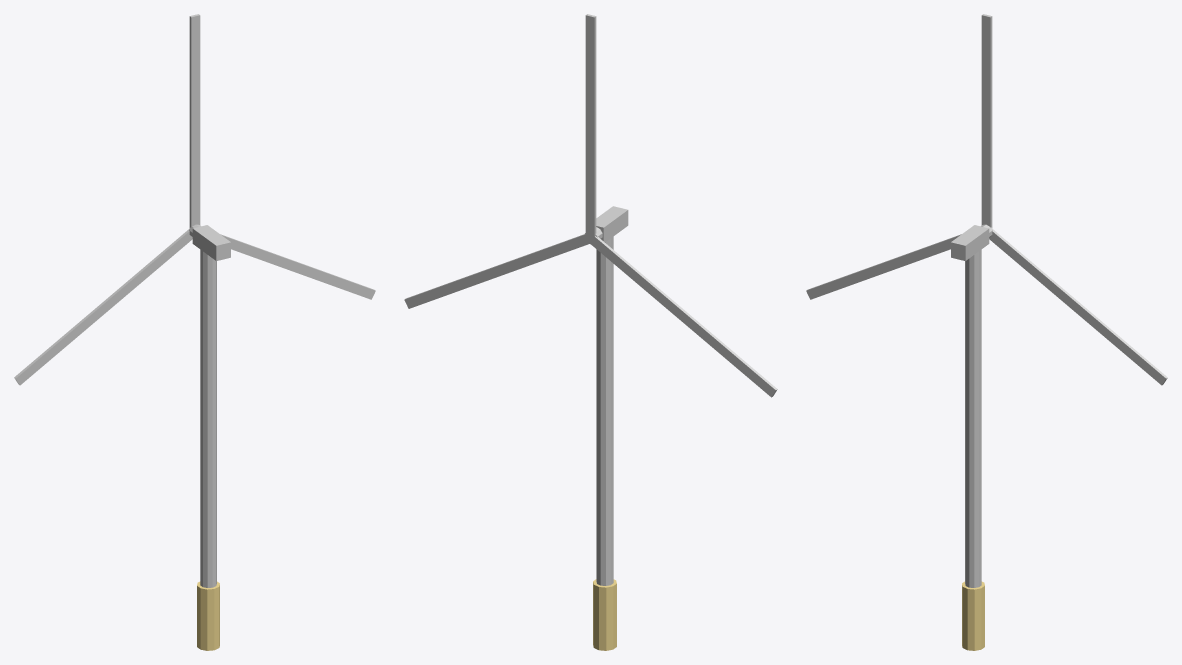
The model's file is wind_turbine.glb.
3 renders of one model, left to right at view 1: azimuth 30°, elevation 25°; view 2: azimuth 150°, elevation 25°; view 3: azimuth 330°, elevation 25°, orthographic. The views are drawn at different scales.
Visible parts, largest first — view 1: Cylinder.001, blade0, blade2, blade1, Cylinder, nacelle; view 2: Cylinder.001, blade0, blade2, blade1, Cylinder, nacelle; view 3: Cylinder.001, blade0, blade1, blade2, Cylinder, nacelle.
Boxes of the visible parts, x1,y1,x2,y2 form: Cylinder.001: [200, 249, 216, 587]; blade0: [189, 14, 200, 227]; blade2: [14, 229, 192, 385]; blade1: [220, 234, 375, 299]; Cylinder: [197, 581, 219, 650]; nacelle: [192, 225, 230, 260]; Cylinder.001: [596, 236, 613, 585]; blade0: [585, 14, 596, 239]; blade2: [588, 236, 777, 397]; blade1: [404, 234, 592, 308]; Cylinder: [593, 579, 616, 650]; nacelle: [596, 206, 628, 242]; Cylinder.001: [965, 249, 981, 587]; blade0: [981, 14, 992, 227]; blade1: [989, 229, 1167, 385]; blade2: [806, 234, 961, 299]; Cylinder: [962, 581, 984, 650]; nacelle: [951, 225, 989, 260].
Bounding box in the file's own units: 123 × 202 × 17.5.
